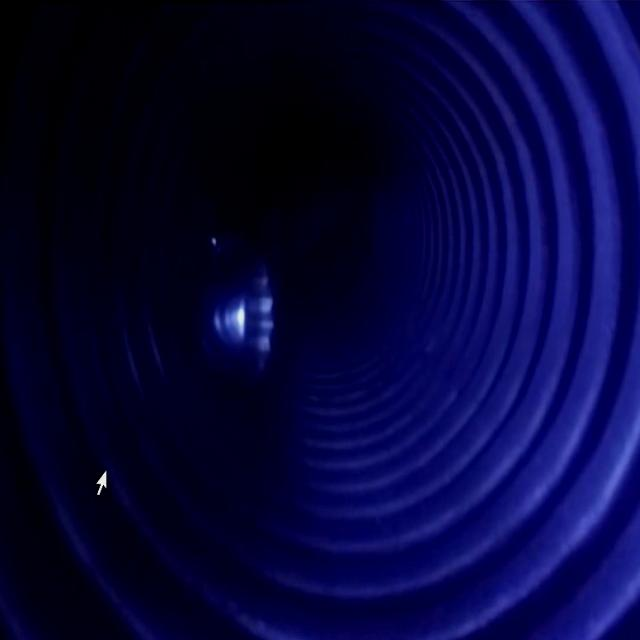metal piece: (192, 223, 280, 386)
